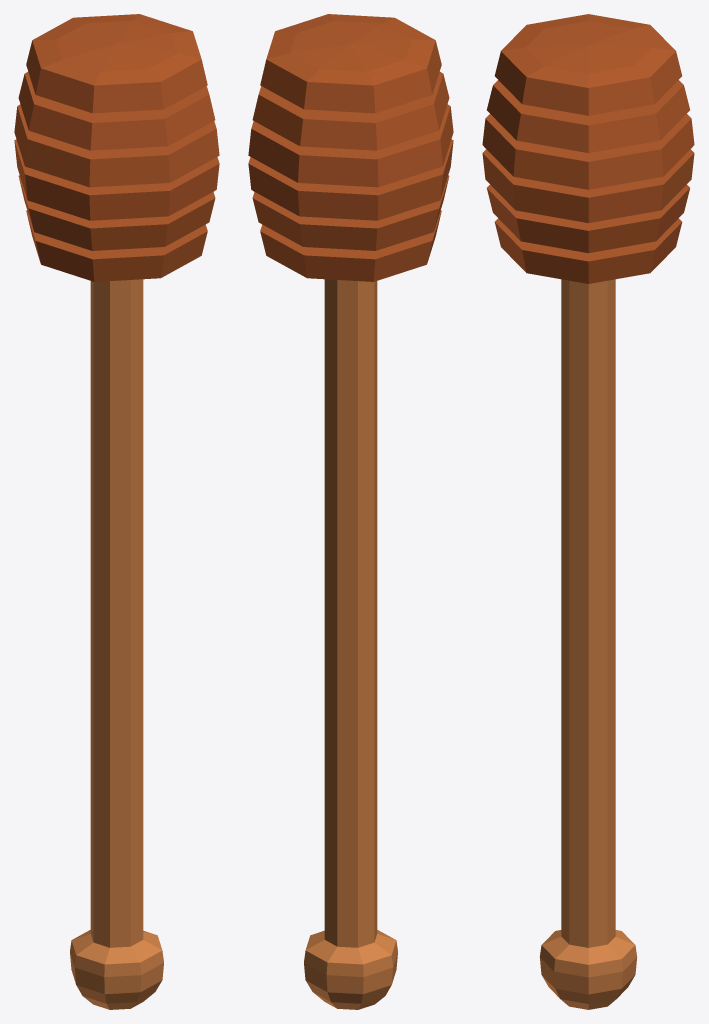
The model's file is 82f176b6-eed5-49fc-8852-678f1ad1a0b3.glb.
3 renders of one model, left to right at view 1: azimuth 30°, elevation 25°; view 2: azimuth 150°, elevation 25°; view 3: azimuth 270°, elevation 25°, orthographic.
Visible parts, largest first — view 1: Node; view 2: Node; view 3: Node.
Boxes of the visible parts, <box> form: Node: <box>14,14,219,1009</box>; Node: <box>248,14,453,1009</box>; Node: <box>482,14,694,1009</box>.
Size of the model in its own units: 1.07 by 5.34 by 1.07.
